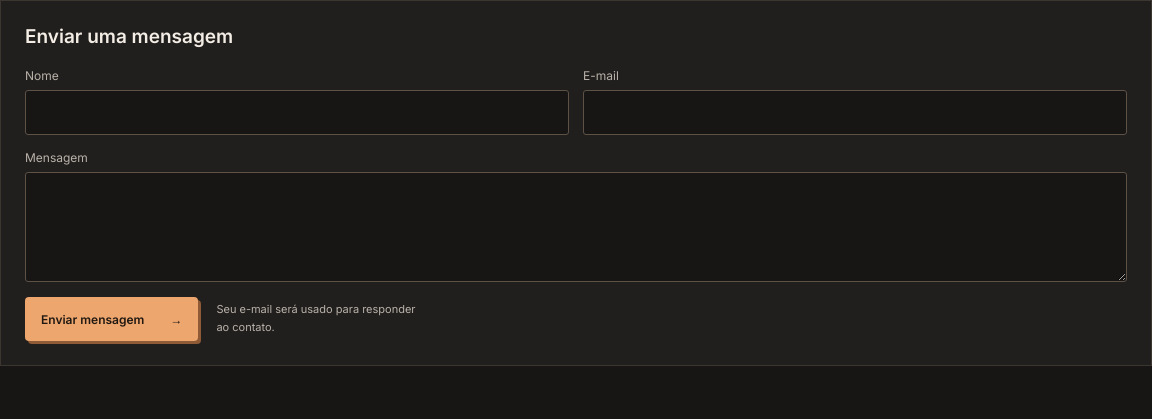
Test: contact submissions › preserves the draft after a rejected submission and clears it only after acceptance
Type "Visitante" into the field labelled "Nome" at (297, 112), box [25,90,569,135]
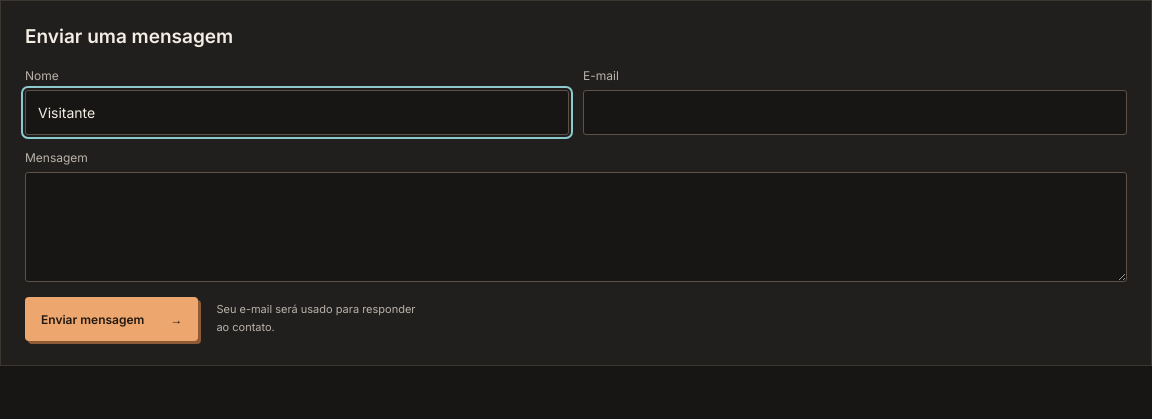
Type "visitante@example.com" into the field labelled "E-mail" at (855, 112), box [583,90,1127,135]
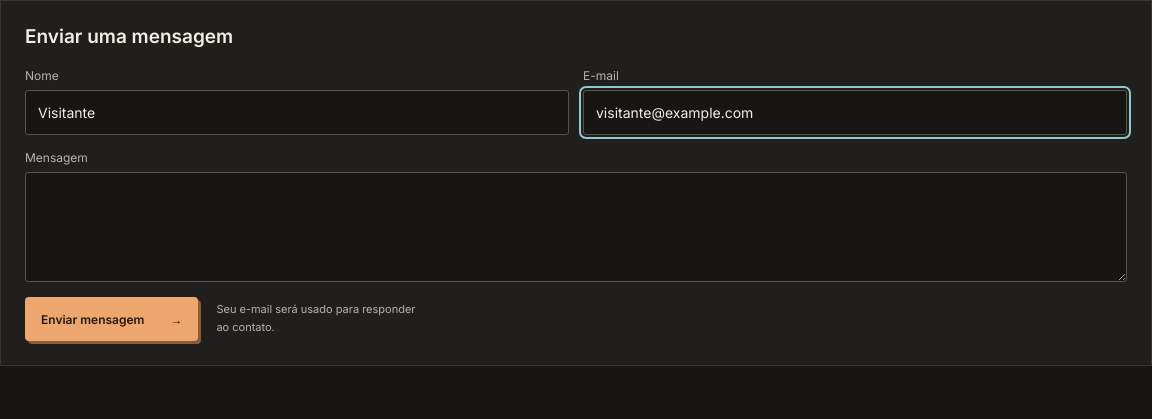
Type "Gostaria de saber mais sobre o projeto." into the text box labelled "Mensagem" at (576, 227), box [25,172,1127,282]
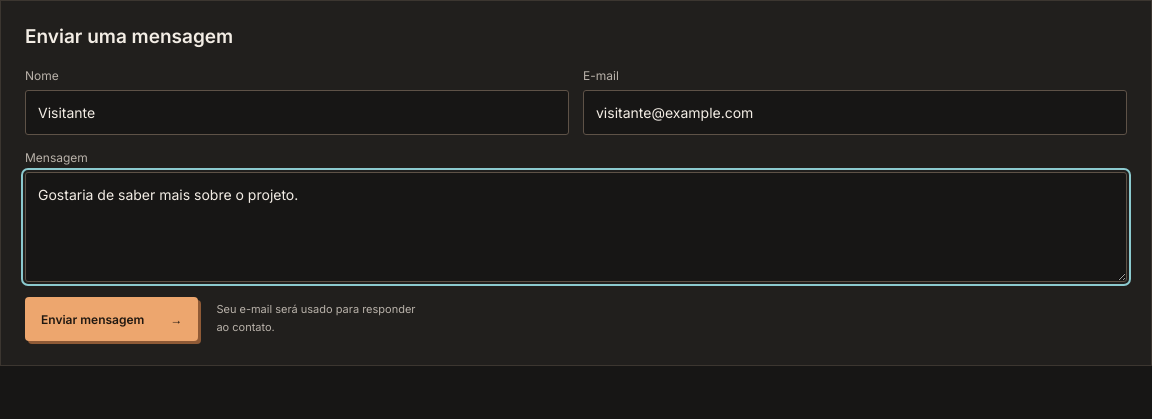
Click the button "Enviar mensagem →" at (112, 319), box [25,297,198,341]
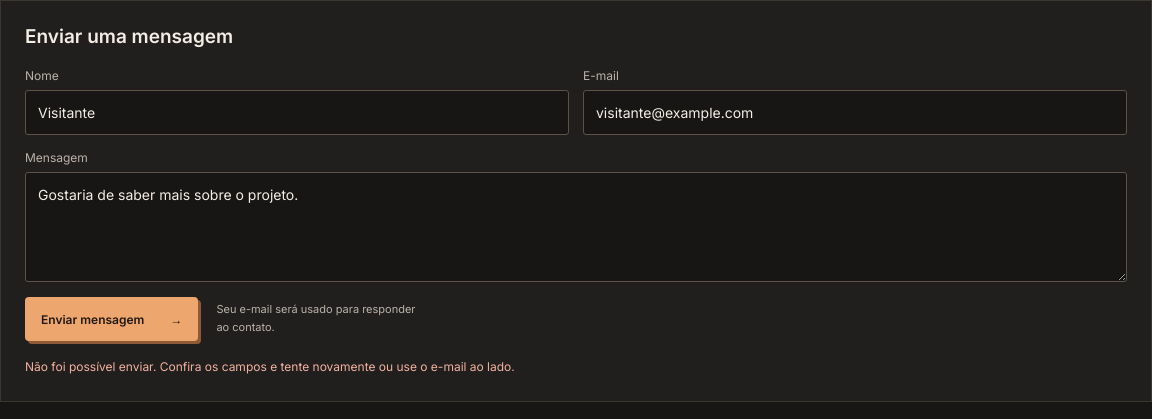
Expected: the message is shown, [25,359,515,374]
Click the button "Enviar mensagem →" at (112, 319), box [25,297,198,341]
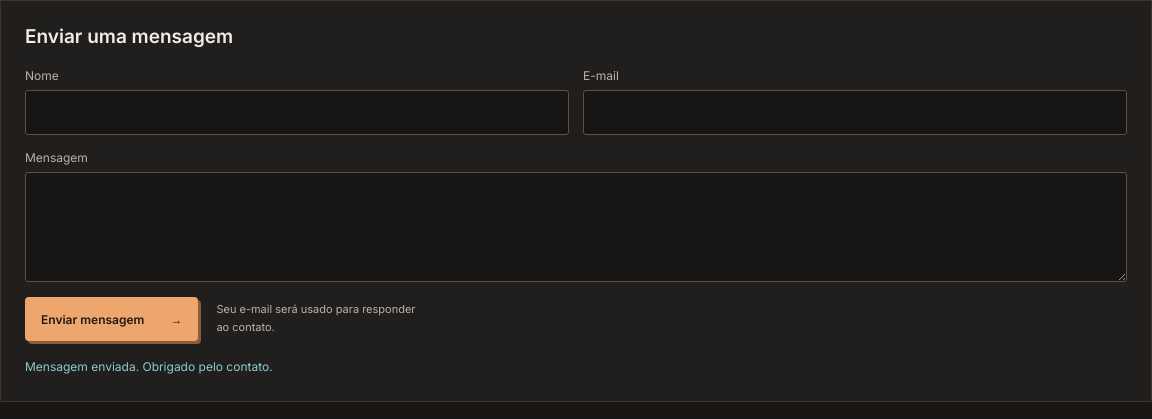
Expected: the message reads "Mensagem enviada. Obrigado pelo contato.", [25,359,273,374]
Expected: the text box labelled "Mensagem" is empty, [25,172,1127,282]
